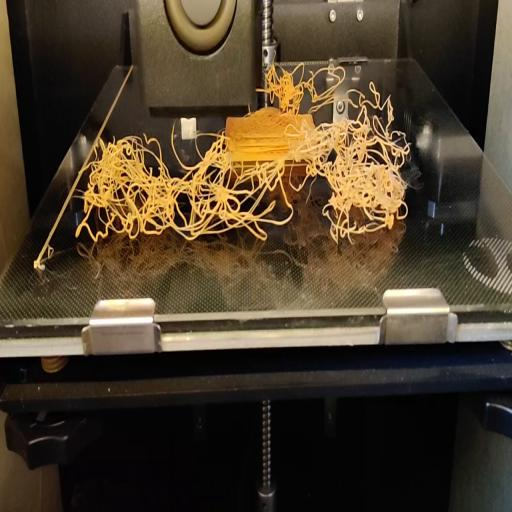spaghetti: (76, 120, 412, 250), (259, 55, 394, 121)
